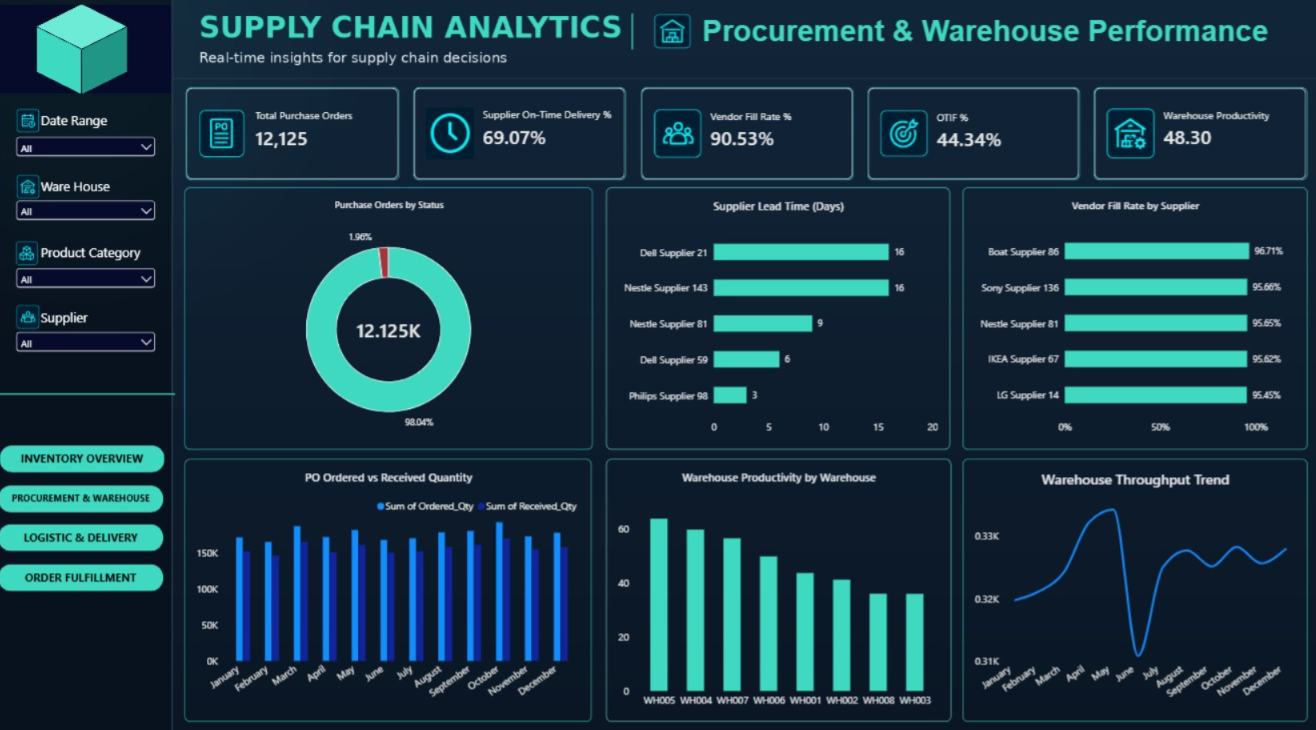

This screenshot's page, from the dashboard's own definition file:
{"tool":"powerbi","page":{"name":"Procurement & Warehouse Performance","canvas":[1920,1080],"ordinal":1},"visuals":[{"type":"image","box":[0,20,259.4,127.7],"z":0},{"type":"cardVisual","fields":{"Data":["Measure_Table.Total Purchase Orders"]},"box":[280,138.6,308.6,134.3],"z":1000},{"type":"cardVisual","fields":{"Data":["Measure_Table.On-Time Delivery %"]},"box":[610,138.6,307.1,134.3],"z":2000},{"type":"cardVisual","fields":{"Data":["Measure_Table.Vendor Fill Rate %"]},"box":[938.6,138.6,307.1,134.3],"z":3000},{"type":"cardVisual","fields":{"Data":["Measure_Table.True OTIF %"]},"box":[1267.1,138.6,307.1,134.3],"z":4000},{"type":"cardVisual","fields":{"Data":["Measure_Table.Avg Warehouse Productivity (units/hr)"]},"box":[1594.3,138.6,308.6,134.3],"z":5000},{"type":"donutChart","title":"Purchase Orders by Status ","fields":{"Category":["Purchase_Orders.PO_Status"],"Y":["CountNonNull(Purchase_Orders.PO_ID)"]},"box":[278.8,284.5,590.4,378.9],"z":6000},{"type":"clusteredBarChart","title":"Supplier Lead Time (Days)","fields":{"Category":["Supplier_master.Supplier_Name"],"Y":["Sum(Supplier_master.Lead_Time_Days)"]},"box":[889.2,284.5,497.5,378.9],"z":7000},{"type":"clusteredBarChart","title":"Vendor Fill Rate by Supplier","fields":{"Category":["Supplier_master.Supplier_Name"],"Y":["Measure_Table.Vendor Fill Rate %"]},"box":[1403.9,284.5,498.9,378.9],"z":8000},{"type":"clusteredColumnChart","title":"PO Ordered vs Received Quantity","fields":{"Y":["Sum(Purchase_Orders.Ordered_Qty)","Sum(Purchase_Orders.Received_Qty)"],"Category":["Purchase_Orders.PO_Date.Variation.Date Hierarchy.Month"]},"box":[278.8,677.6,589,380.3],"z":9000},{"type":"clusteredColumnChart","title":"Warehouse Productivity by Warehouse","fields":{"Category":["Warehouse_Productivity.Warehouse_ID"],"Y":["Avg(Warehouse_Productivity.Productivity_Units_Per_Hour)"]},"box":[889.2,677.6,498.9,380.3],"z":10000},{"type":"lineChart","title":"Warehouse Throughput Trend","fields":{"Category":["Warehouse_Productivity.Week_Start.Variation.Date Hierarchy.Month"],"Y":["Avg(Warehouse_Productivity.Throughput_Orders_Per_Day)"]},"box":[1403.9,677.6,498.9,380.3],"z":11000},{"type":"textbox","box":[1027.9,31.9,842.3,51.3],"z":12000},{"type":"shape","box":[902,32.2,50.3,51.7],"z":13000},{"type":"slicer","title":"Date Range","fields":{"Values":["dim_date.Date_Value"]},"box":[30,205.9,210.1,38.6],"z":14000},{"type":"slicer","fields":{"Values":["Warehouse_master.Warehouse_City"]},"box":[30,298.8,210.1,38.6],"z":15000},{"type":"slicer","fields":{"Values":["Product_master.Product_Category"]},"box":[30,396,210.1,38.6],"z":16000},{"type":"slicer","fields":{"Values":["Supplier_master.Supplier_Name"]},"box":[30,488.9,210.1,38.6],"z":17000},{"type":"textbox","box":[71.1,173.9,171.6,31.9],"z":18000},{"type":"textbox","box":[71.1,269.1,187.5,30.6],"z":19000},{"type":"textbox","box":[71.1,365.9,187.3,30],"z":20000},{"type":"textbox","box":[71.1,459.6,194.2,27.9],"z":21000},{"type":"image","box":[951.7,31.9,65.1,51.3],"z":22000},{"type":"actionButton","box":[10.6,657.6,238.9,39.3],"z":23000},{"type":"shape","box":[4.5,556.3,259.4,54.5],"z":24000},{"type":"actionButton","box":[9.1,715.1,238.9,39.3],"z":25000},{"type":"actionButton","box":[9.1,771,238.9,39.3],"z":26000},{"type":"actionButton","box":[9.1,828.5,238.9,39.3],"z":27000},{"type":"image","box":[31.7,170.8,39.3,34.8],"z":28000},{"type":"image","box":[31.7,266.1,39,34],"z":29000},{"type":"image","box":[30.2,362.8,39,34],"z":30000},{"type":"image","box":[31.7,453.5,39,34],"z":30001}]}

Visuals, with their boxes in screenshot pixels (x1, y1, x2, y2), scaled from the page's 1920x1080 canvas onto the 1316x730 screenshot:
image: (0,14,178,100)
cardVisual - Measure_Table.Total Purchase Orders: (192,94,403,184)
cardVisual - Measure_Table.On-Time Delivery %: (418,94,629,184)
cardVisual - Measure_Table.Vendor Fill Rate %: (643,94,854,184)
cardVisual - Measure_Table.True OTIF %: (868,94,1079,184)
cardVisual - Measure_Table.Avg Warehouse Productivity (units/hr): (1093,94,1304,184)
"Purchase Orders by Status " donutChart: (191,192,596,448)
"Supplier Lead Time (Days)" clusteredBarChart: (609,192,950,448)
"Vendor Fill Rate by Supplier" clusteredBarChart: (962,192,1304,448)
"PO Ordered vs Received Quantity" clusteredColumnChart: (191,458,595,715)
"Warehouse Productivity by Warehouse" clusteredColumnChart: (609,458,951,715)
"Warehouse Throughput Trend" lineChart: (962,458,1304,715)
textbox: (705,22,1282,56)
shape: (618,22,653,57)
"Date Range" slicer: (21,139,165,165)
slicer - Warehouse_master.Warehouse_City: (21,202,165,228)
slicer - Product_master.Product_Category: (21,268,165,294)
slicer - Supplier_master.Supplier_Name: (21,330,165,357)
textbox: (49,118,166,139)
textbox: (49,182,177,203)
textbox: (49,247,177,268)
textbox: (49,311,182,330)
image: (652,22,697,56)
actionButton: (7,444,171,471)
shape: (3,376,181,413)
actionButton: (6,483,170,510)
actionButton: (6,521,170,548)
actionButton: (6,560,170,587)
image: (22,115,49,139)
image: (22,180,48,203)
image: (21,245,47,268)
image: (22,307,48,330)
